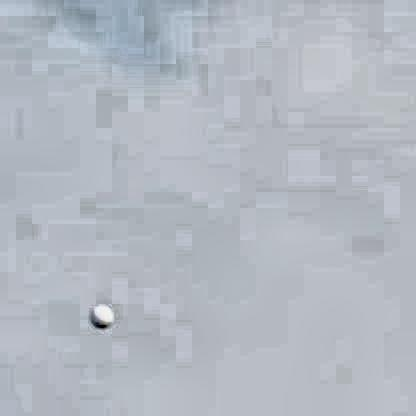golfball: (87, 299, 111, 327)
